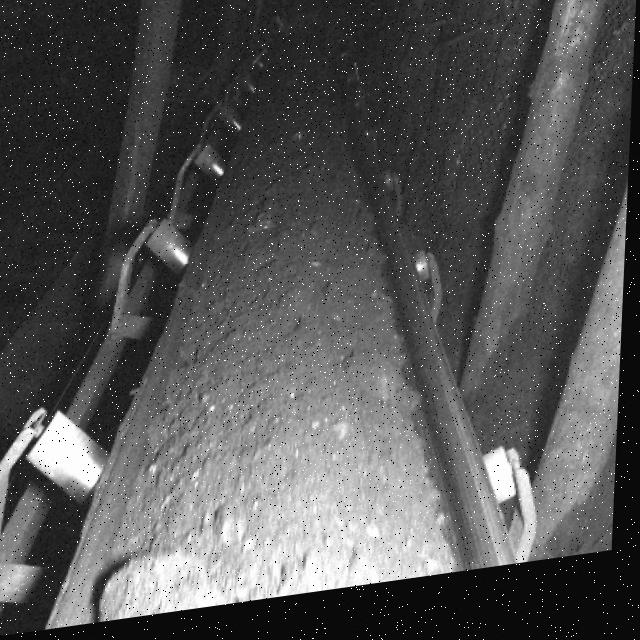large_sized_coal: (103, 544, 233, 626)
